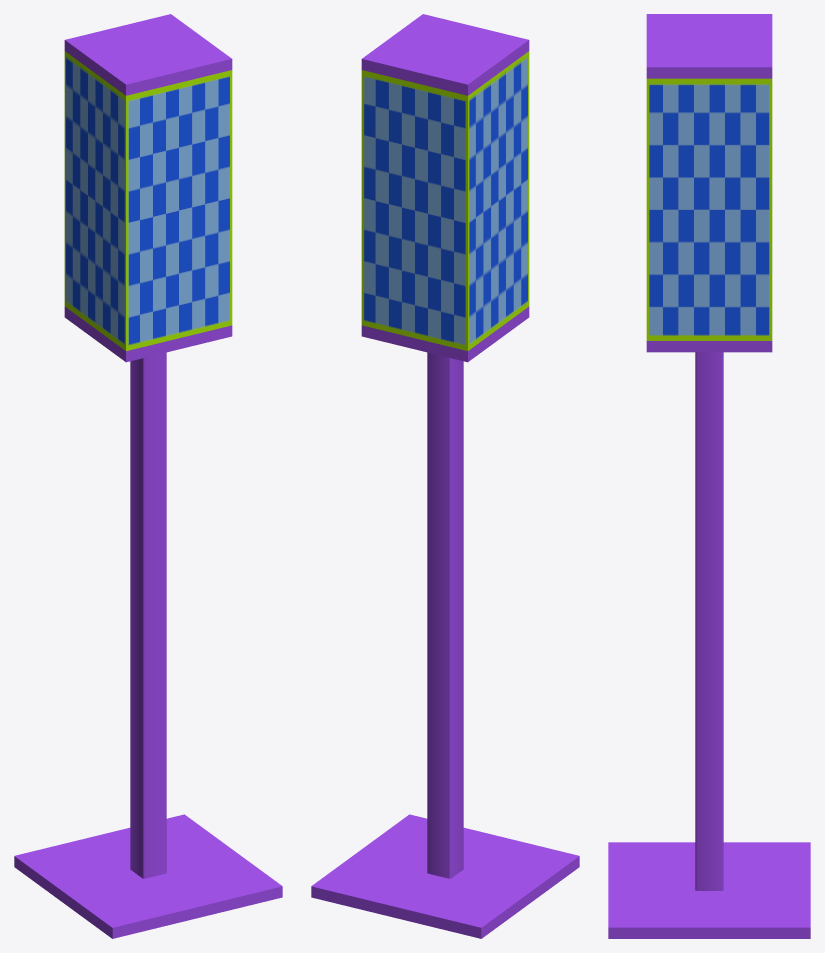
File: LightFloor02_2.FBX
3 renders of one model, left to right at view 1: azimuth 30°, elevation 25°; view 2: azimuth 150°, elevation 25°; view 3: azimuth 270°, elevation 25°, orthographic. The views are drawn at different scales.
Visible parts, largest first — view 1: LightFloor02_2; view 2: LightFloor02_2; view 3: LightFloor02_2.
Part boxes in pixels (box(x1,y1,x2,y2)): LightFloor02_2: box(14, 14, 282, 938); LightFloor02_2: box(311, 14, 579, 938); LightFloor02_2: box(608, 14, 810, 938).
Bounding box in the file's own units: 32.1 × 150 × 32.1.
